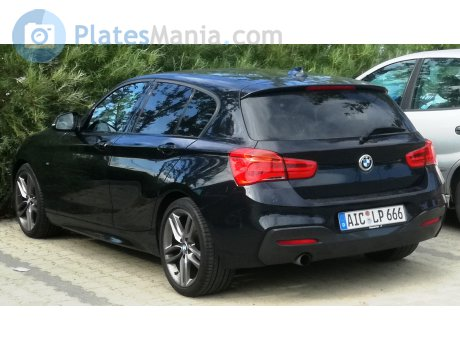License Plates: (345, 212, 403, 221)
